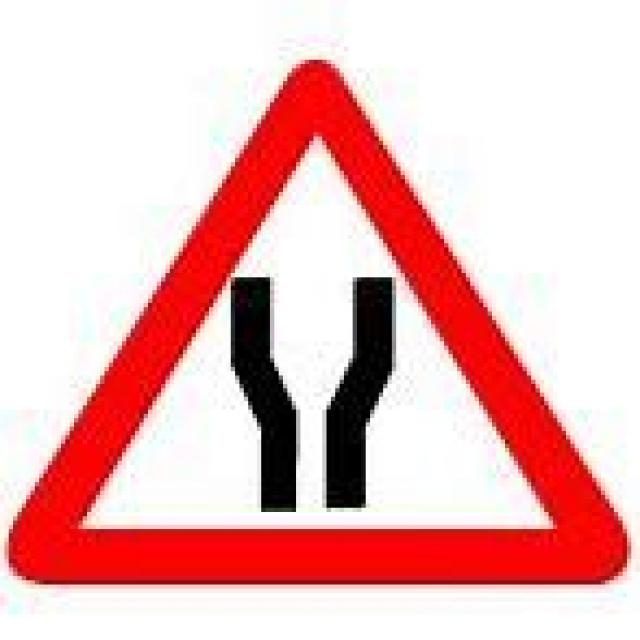ROAD_WIDENS_AHEAD: (0, 51, 627, 585)
